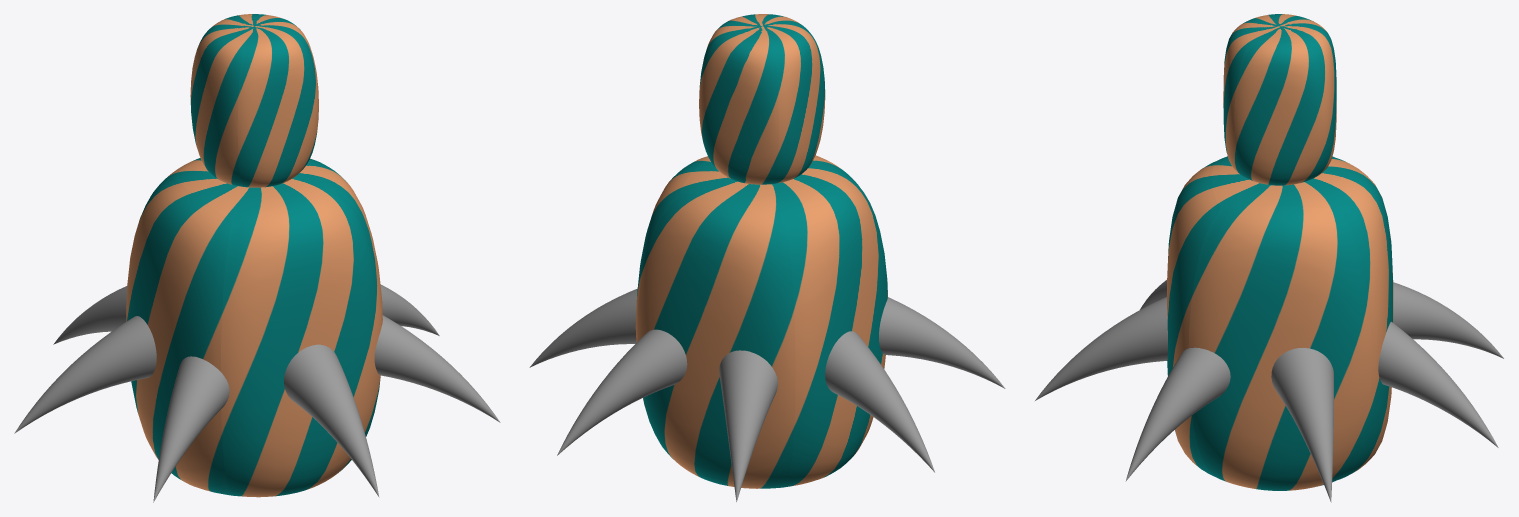
Rendered from Oblong + 7070059 + 5050194 + DStripes + 7 + Pointed + Bent_Up + Oblong + 7070059 + 5050194 + DStripes.fbx.
The picture shows the model from 3 angles, left to right: view 1: azimuth 30°, elevation 25°; view 2: azimuth 150°, elevation 25°; view 3: azimuth 270°, elevation 25°; orthographic projection.
Parts seen in each view (by area): view 1: Box001, Box002, Cone001, Cone006, Cone007, Cone002, Cone005, Cone003; view 2: Box001, Box002, Cone004, Cone006, Cone005, Cone007, Cone003; view 3: Box001, Box002, Cone003, Cone002, Cone001, Cone004, Cone005.
Boxes of the visible parts, x1,y1,x2,y2 form: Box001: (126, 158, 382, 497); Box002: (190, 14, 318, 187); Cone001: (284, 344, 379, 497); Cone006: (14, 316, 156, 433); Cone007: (153, 356, 229, 502); Cone002: (374, 315, 500, 422); Cone005: (53, 286, 127, 344); Cone003: (380, 284, 439, 335); Box001: (635, 155, 887, 488); Box002: (699, 14, 825, 184); Cone004: (557, 329, 687, 455); Cone006: (825, 331, 934, 472); Cone005: (719, 350, 777, 501); Cone007: (879, 297, 1005, 388); Cone003: (529, 288, 637, 367); Box001: (1167, 156, 1393, 490); Box002: (1223, 14, 1336, 185); Cone003: (1271, 348, 1333, 502); Cone002: (1125, 347, 1230, 481); Cone001: (1035, 297, 1167, 400); Cone004: (1378, 321, 1498, 447); Cone005: (1393, 282, 1503, 358).
Bounding box in the file's own units: 58.99 × 59.9 × 58.06.
Materials: 2 (1 with a texture image).
